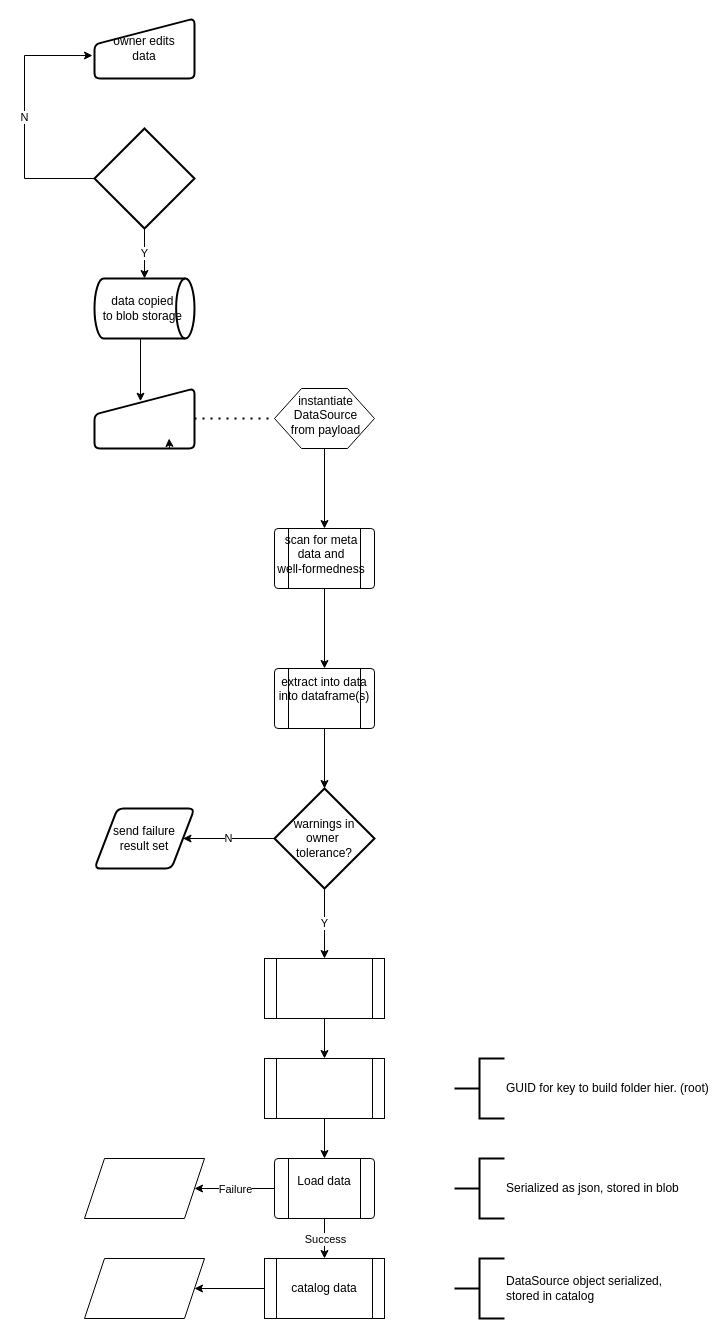
The diagram is 727 pixels wide and 1336 high, and some of its shapes have lost their labels. Here are the shapes that lost their labels. From the top down, the centre of each, then its label:
At (144,178): "ready for consumption?".
At (144,418): "owner submits POST".
At (324,988): "transform into json format from dataframe(s)".
At (324,1088): "assign version 1 in file name (before serialization)".
At (144,1188): "send connection failure message".
At (144,1288): "send observed meta-data, catalog data".
